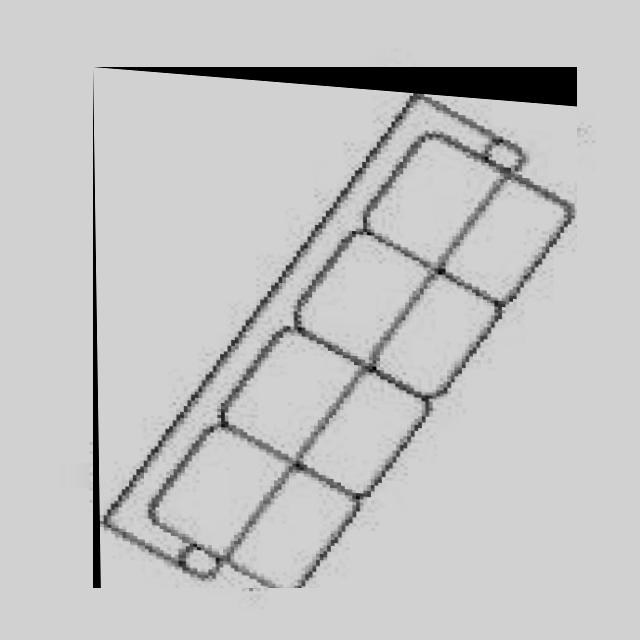sofa: (93, 67, 577, 588)
